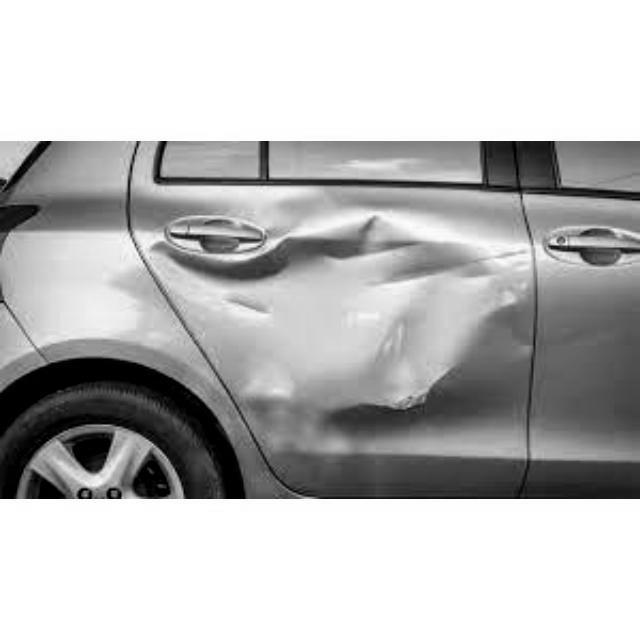doorouter-dent: (131, 189, 534, 498)
